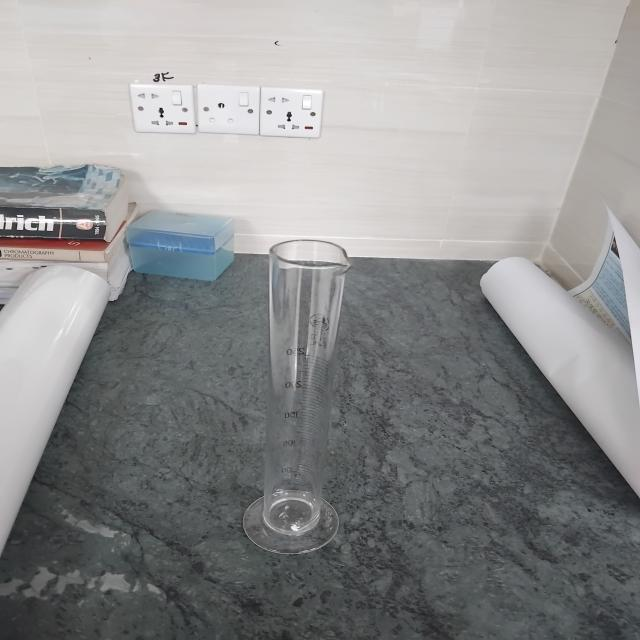Measuring_Cylinder: (242, 197, 397, 569)
